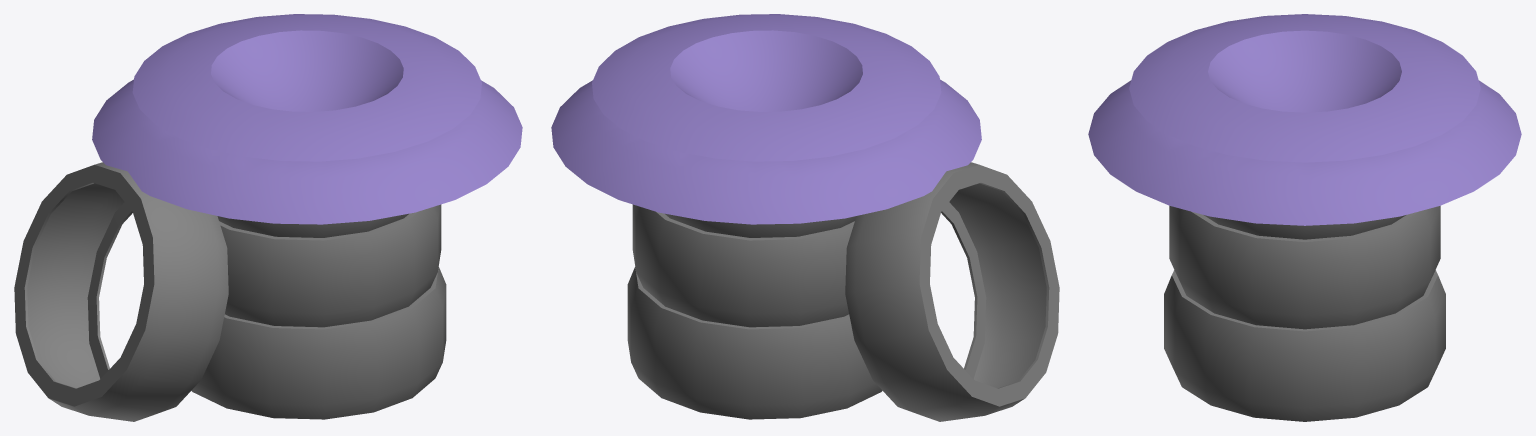
Rendered from ME_Tire1.fbx.
3 renders of one model, left to right at view 1: azimuth 30°, elevation 25°; view 2: azimuth 150°, elevation 25°; view 3: azimuth 270°, elevation 25°, orthographic.
Parts seen in each view (by area): view 1: Circle001; view 2: Circle001; view 3: Circle001.
Part boxes in pixels (bbox=[...]): Circle001: bbox=[14, 14, 522, 421]; Circle001: bbox=[551, 14, 1059, 421]; Circle001: bbox=[1088, 14, 1521, 421].
Size of the model in its own units: 155 by 97.43 by 130.
